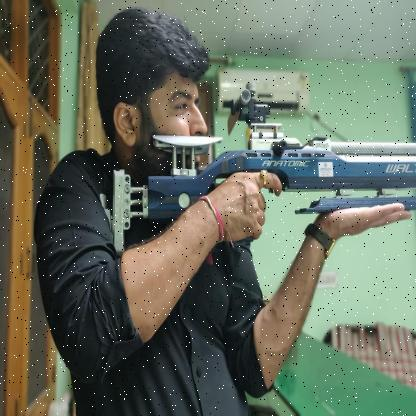rifle: (98, 78, 416, 258)
